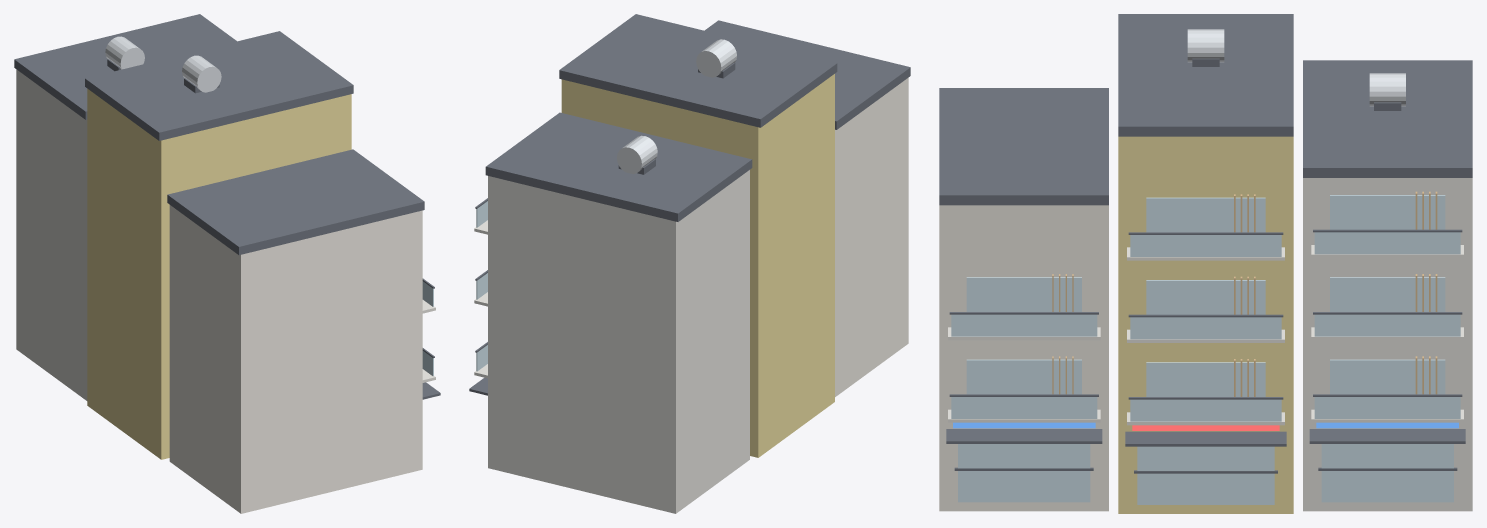
The model's file is SM_Hanoi_ShophouseBlock.fbx.
The picture shows the model from 3 angles, left to right: view 1: azimuth 30°, elevation 25°; view 2: azimuth 150°, elevation 25°; view 3: azimuth 270°, elevation 25°; orthographic projection. The views are drawn at different scales.
Parts seen in each view (by area): view 1: TH_Cafe_Body, TH_TraChanh_Body, TH_TapHoa_Body, TH_TraChanh_Parapet, TH_Cafe_Parapet, TH_TapHoa_Parapet, TH_TraChanh_WaterTank, TH_TapHoa_WaterTank; view 2: TH_TapHoa_Body, TH_TraChanh_Body, TH_Cafe_Body, TH_TraChanh_Parapet, TH_TapHoa_Parapet, TH_Cafe_Parapet, TH_TapHoa_WaterTank, TH_TraChanh_WaterTank; view 3: TH_TraChanh_Body, TH_Cafe_Body, TH_TapHoa_Body, TH_TraChanh_Parapet, TH_Cafe_Parapet, TH_TapHoa_Parapet, TH_TraChanh_ShopGlass, TH_Cafe_ShopGlass, TH_TapHoa_ShopGlass, TH_TraChanh_F2_Win, TH_Cafe_F0_Win, TH_TraChanh_F0_Win (+31 smaller).
Part boxes in pixels (<box>): TH_Cafe_Body: <box>169,205,422,513</box>; TH_TraChanh_Body: <box>87,88,351,459</box>; TH_TapHoa_Body: <box>16,69,87,400</box>; TH_TraChanh_Parapet: <box>85,31,353,140</box>; TH_Cafe_Parapet: <box>167,149,424,255</box>; TH_TapHoa_Parapet: <box>14,14,236,119</box>; TH_TraChanh_WaterTank: <box>182,55,221,92</box>; TH_TapHoa_WaterTank: <box>105,36,144,69</box>; TH_TapHoa_Body: <box>488,170,749,513</box>; TH_TraChanh_Body: <box>561,74,834,457</box>; TH_Cafe_Body: <box>835,77,908,396</box>; TH_TraChanh_Parapet: <box>559,14,837,127</box>; TH_TapHoa_Parapet: <box>485,112,752,221</box>; TH_Cafe_Parapet: <box>705,20,910,129</box>; TH_TapHoa_WaterTank: <box>616,135,657,174</box>; TH_TraChanh_WaterTank: <box>696,39,736,77</box>; TH_TraChanh_Body: <box>1118,136,1293,513</box>; TH_Cafe_Body: <box>939,205,1108,511</box>; TH_TapHoa_Body: <box>1303,178,1472,511</box>; TH_TraChanh_Parapet: <box>1118,14,1293,136</box>; TH_Cafe_Parapet: <box>939,88,1108,205</box>; TH_TapHoa_Parapet: <box>1303,60,1472,177</box>; TH_TraChanh_ShopGlass: <box>1137,446,1274,504</box>; TH_Cafe_ShopGlass: <box>958,444,1090,502</box>; TH_TapHoa_ShopGlass: <box>1321,444,1453,502</box>; TH_TraChanh_F2_Win: <box>1146,197,1265,232</box>; TH_Cafe_F0_Win: <box>966,359,1081,394</box>; TH_TraChanh_F0_Win: <box>1146,362,1265,396</box>.
Size of the model in its own units: 9.66 by 15.23 by 17.6.
